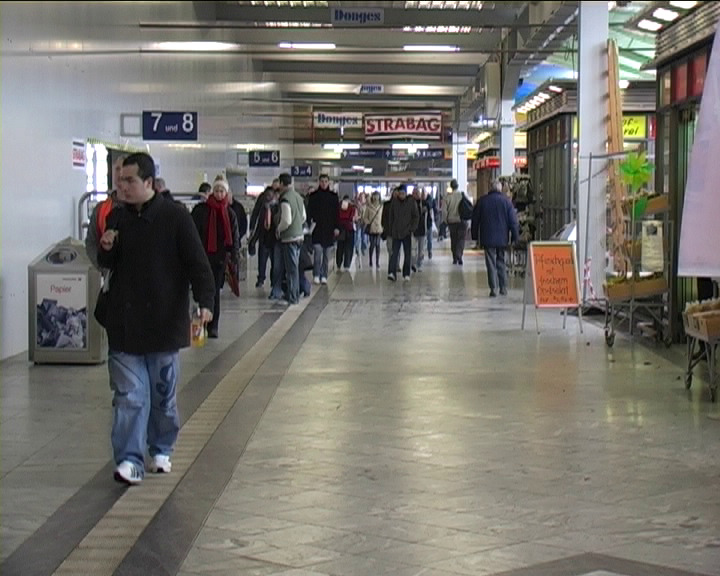deflection: (101, 155, 205, 278)
